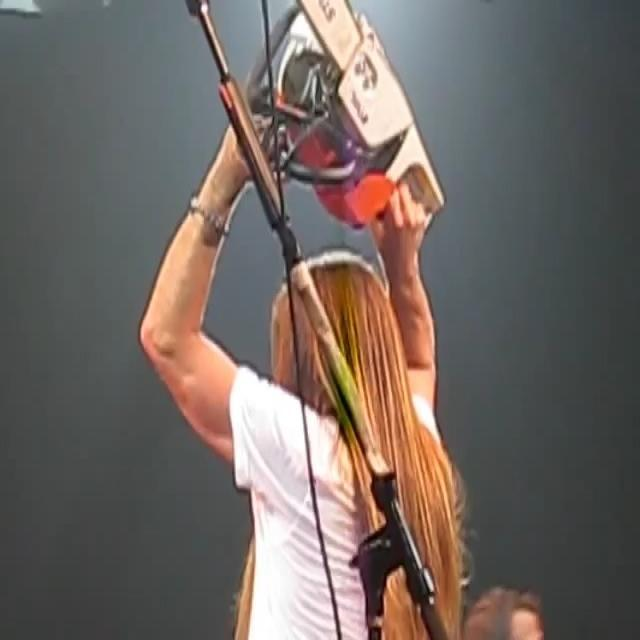Chainsaw: (226, 0, 448, 252)
